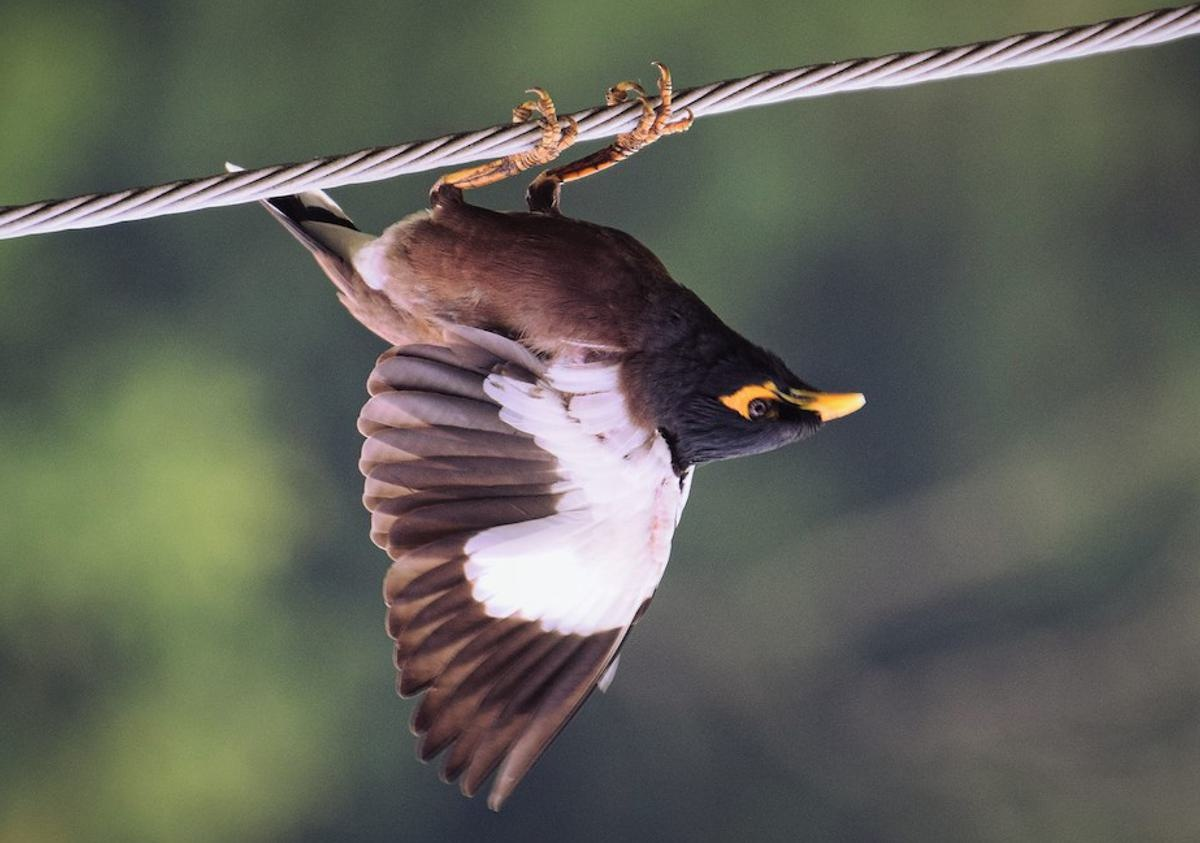myna: (323, 29, 906, 691)
